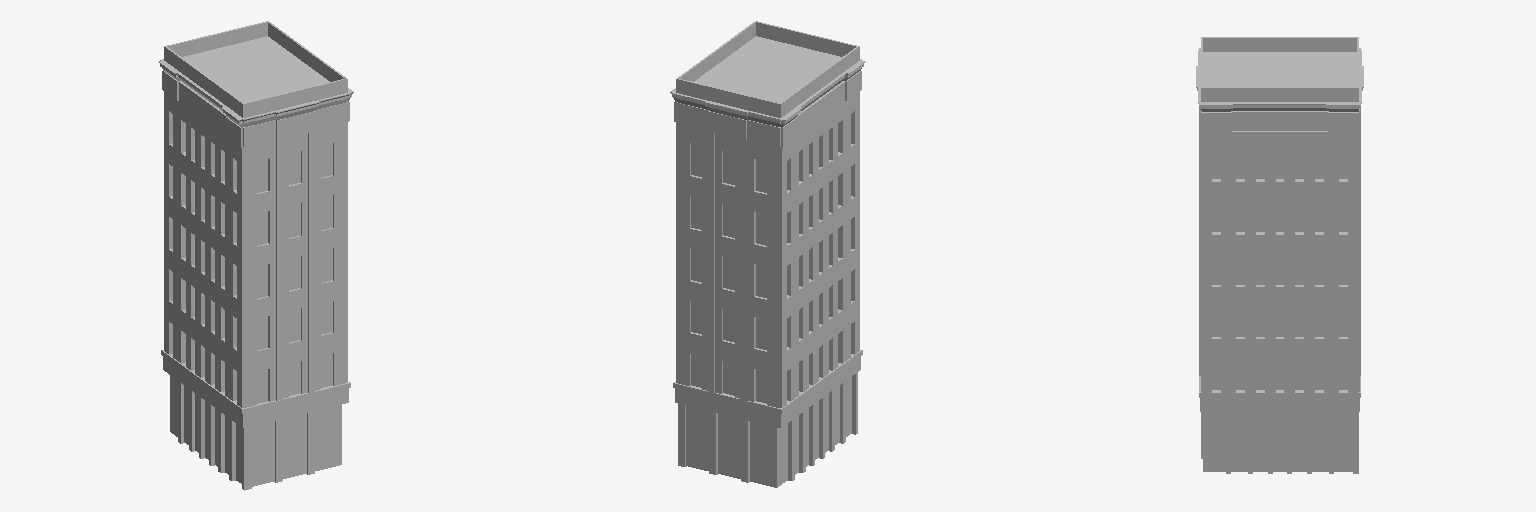
Rendered from TB1HW8jSXXXXXblXVXXXXXXXXXX.obj.
The picture shows the model from 3 angles: view 1: azimuth 30°, elevation 25°; view 2: azimuth 150°, elevation 25°; view 3: azimuth 270°, elevation 25°; orthographic projection.
Visible parts, largest first — view 1: BuildingJ:BuildingJ; view 2: BuildingJ:BuildingJ; view 3: BuildingJ:BuildingJ.
Boxes of the visible parts, <box> form: BuildingJ:BuildingJ: <box>158,21,353,490</box>; BuildingJ:BuildingJ: <box>670,21,865,487</box>; BuildingJ:BuildingJ: <box>1196,37,1363,473</box>.
Bounding box in the file's own units: 3472 × 11081 × 4359.